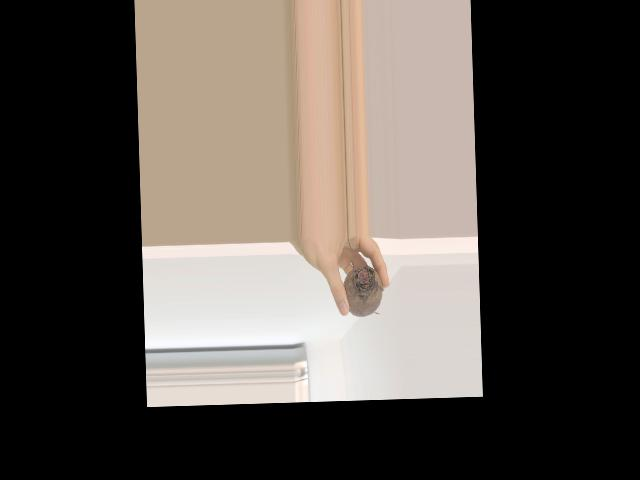beet: (341, 235, 384, 318)
